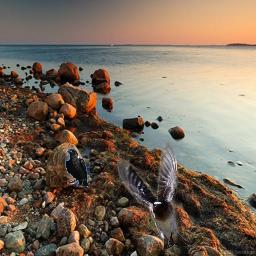Crow: (65, 148, 90, 188)
Swallow: (117, 141, 191, 250)
